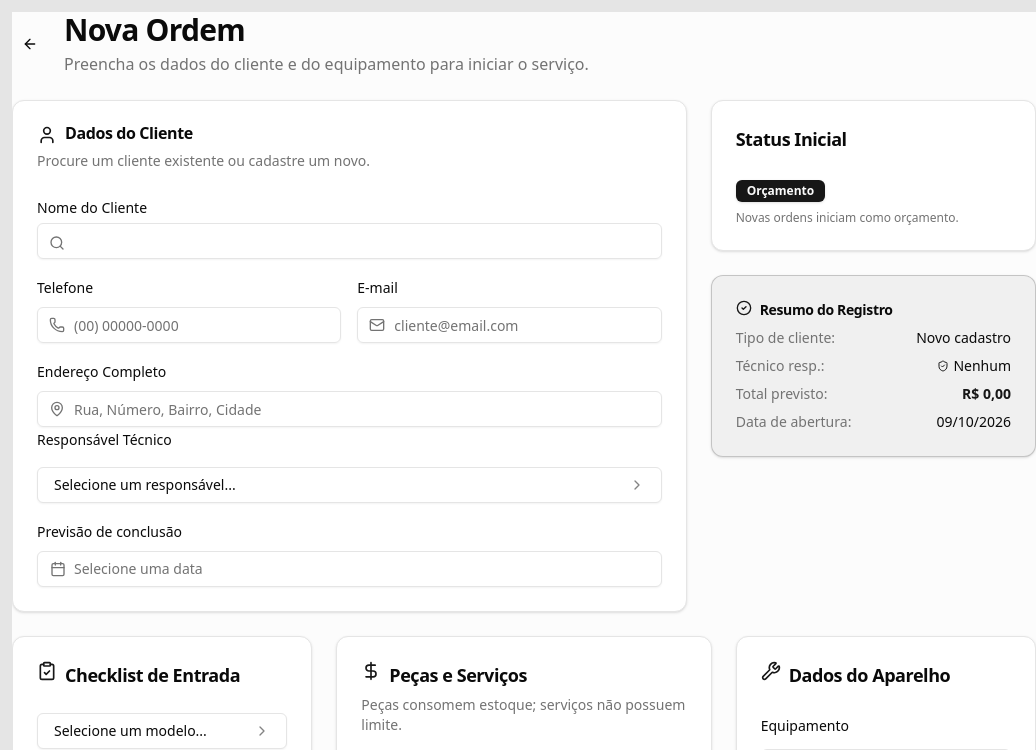
Test case: ServiceOrderCreate › keeps the latest technician results when an older request finishes later
Click the button "Selecione um responsável...".
click(145, 484)  # box [37, 467, 662, 503]
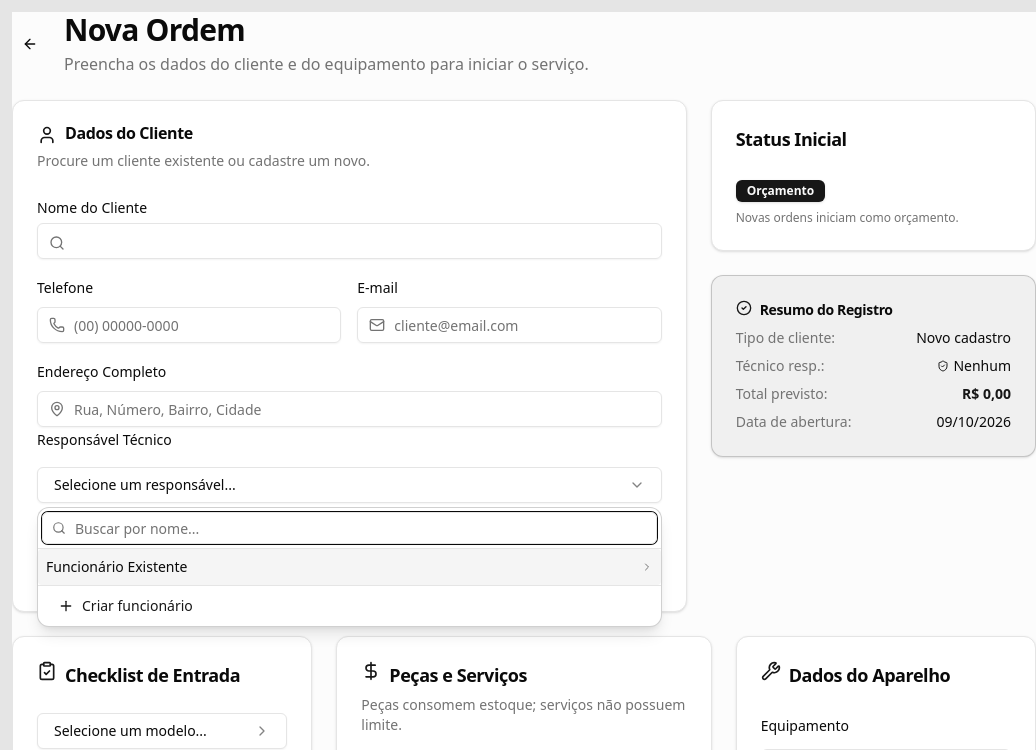
Type "Antigo" into the dropdown with placeholder "Buscar por nome...".
click(349, 528); type("Antigo")  # box [42, 512, 657, 544]
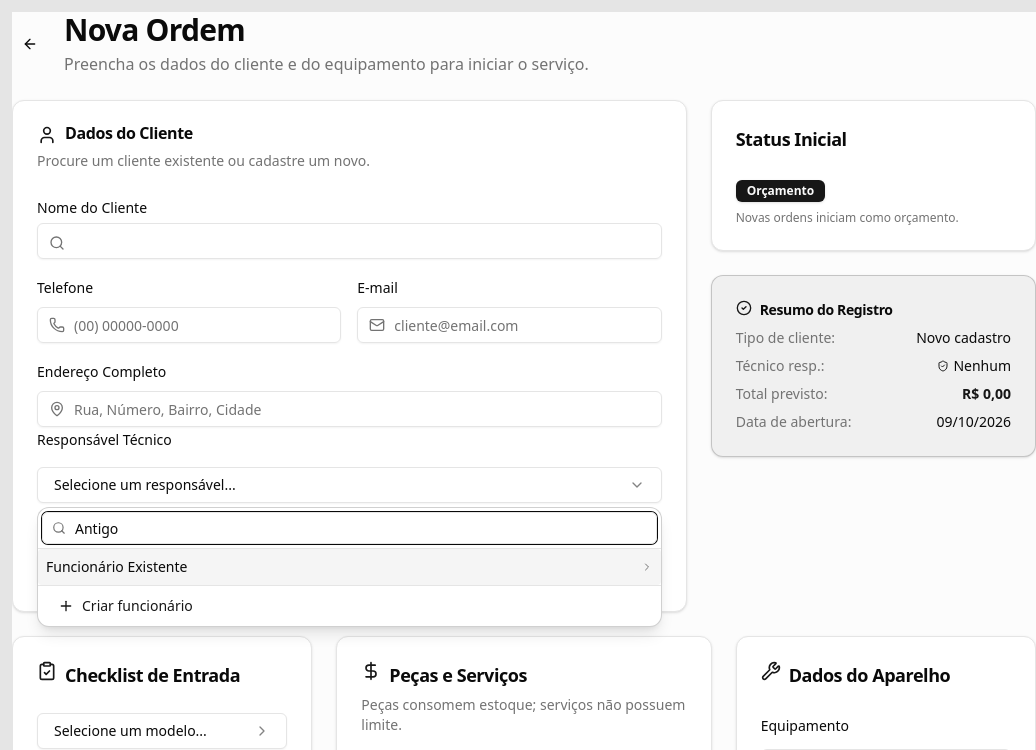
Replace the text in the dropdown with placeholder "Buscar por nome..." with "Novo" at (349,528), box [42, 512, 657, 544]
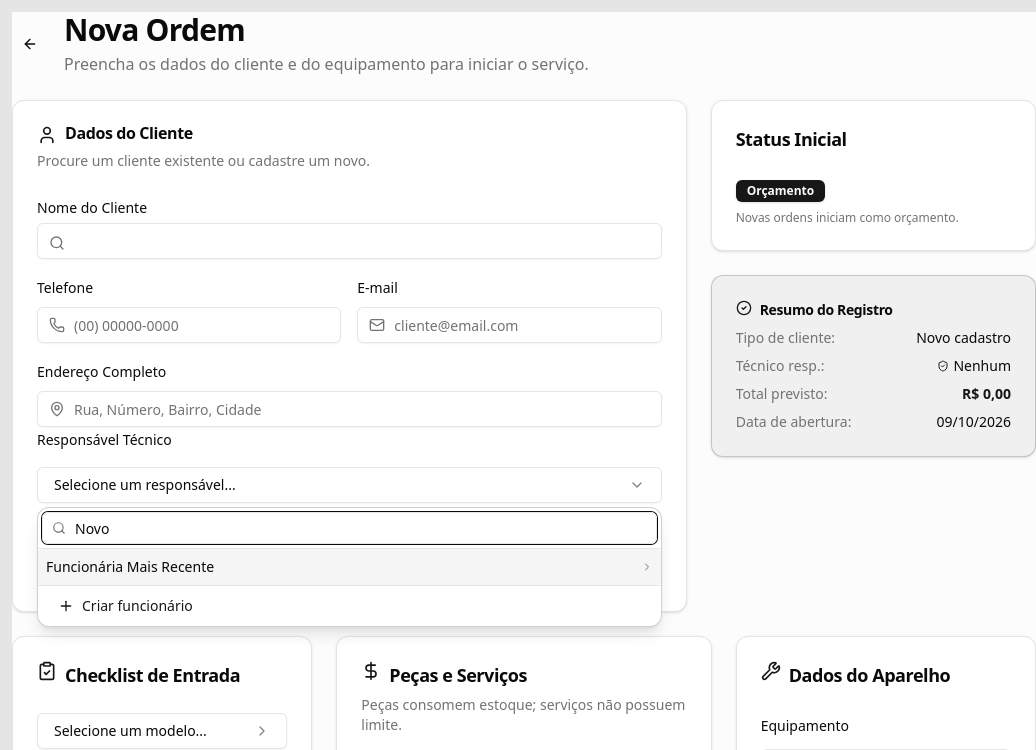
Check: the option "Funcionária Mais Recente" is shown, box [38, 549, 661, 585]
Check: the option "Funcionário Existente" is gone
